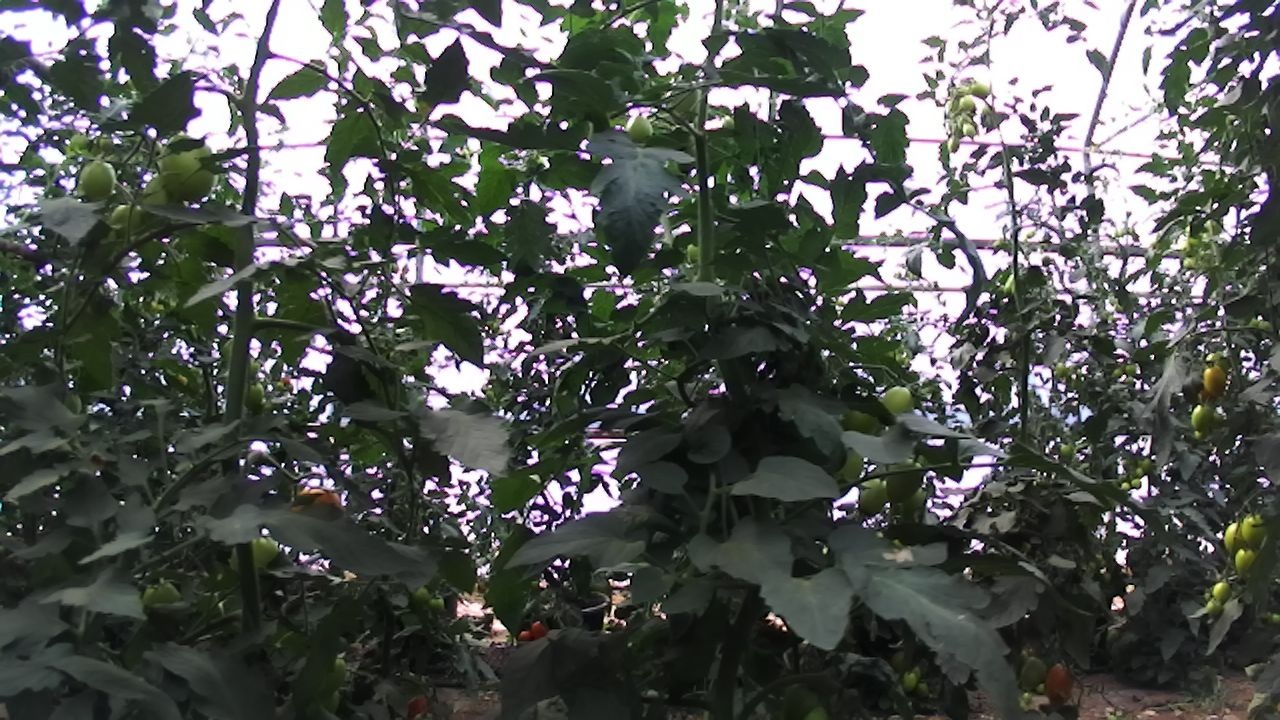tomato: (149, 123, 227, 211), (221, 530, 289, 607), (98, 191, 160, 249), (1034, 652, 1090, 714), (879, 453, 934, 509), (769, 673, 833, 720), (849, 468, 901, 523), (72, 154, 122, 211), (869, 378, 922, 431), (1010, 647, 1059, 694), (1238, 505, 1273, 556), (1182, 395, 1223, 438), (1218, 516, 1255, 562), (1197, 358, 1235, 402), (622, 107, 661, 149), (236, 375, 272, 415), (398, 685, 439, 720), (1228, 540, 1261, 582), (1207, 574, 1237, 607), (525, 614, 557, 644), (896, 665, 925, 697), (966, 79, 995, 105), (909, 677, 936, 704), (408, 582, 433, 610), (958, 118, 981, 146), (956, 91, 980, 116), (943, 130, 965, 157), (425, 590, 447, 616), (1135, 453, 1156, 477), (1055, 440, 1079, 461), (1128, 475, 1144, 492), (1133, 465, 1148, 480), (1118, 479, 1133, 494)
